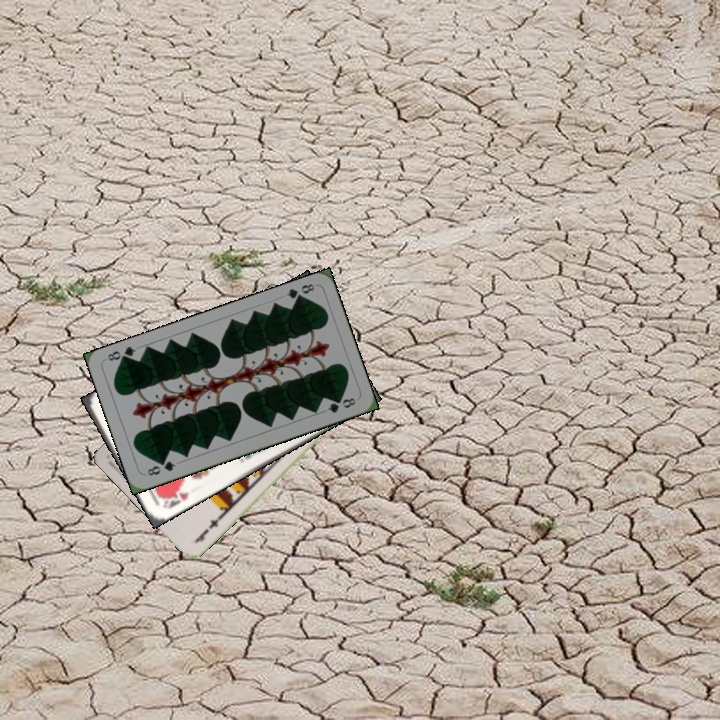E7: (191, 512, 224, 545)
G8: (282, 279, 317, 304), (143, 457, 178, 478)
HK: (159, 486, 192, 511)
